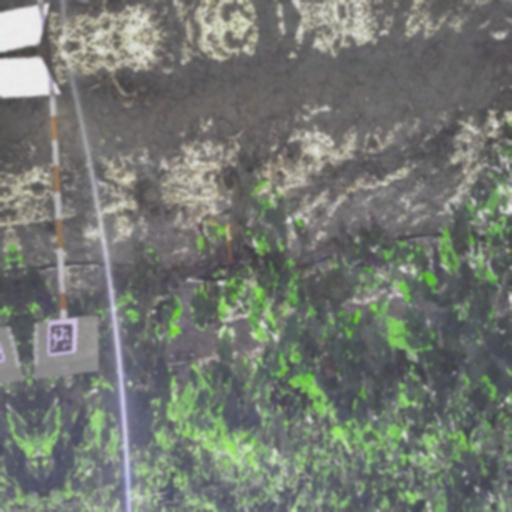QR: (49, 323, 73, 353)
